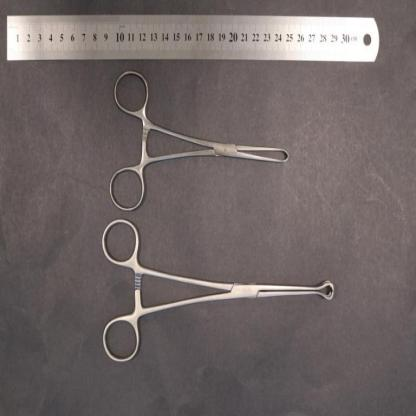8 Babcock Tissue Forceps: (101, 218, 336, 362)
Allis Tissue Forceps: (108, 68, 290, 214)
